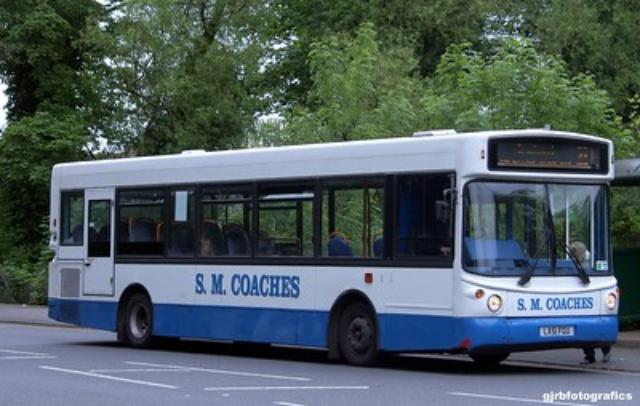bus: (46, 128, 618, 366)
